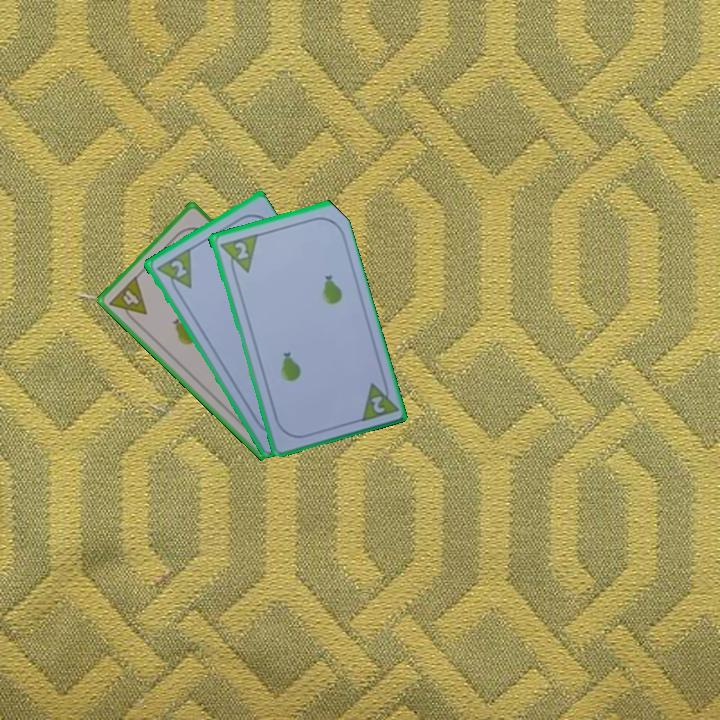2p: (215, 230, 260, 278), (356, 375, 399, 425), (166, 256, 189, 280)
4p: (105, 272, 150, 327)
